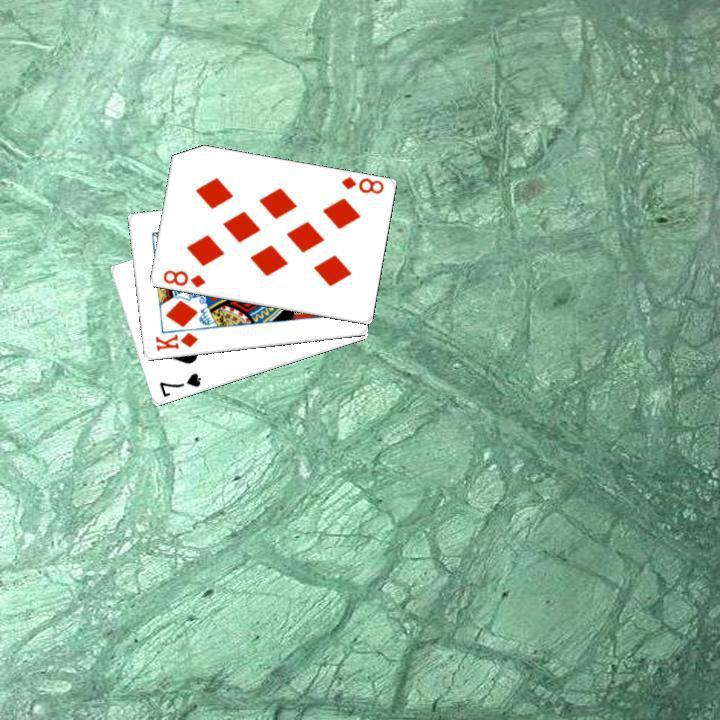7: (155, 369, 203, 400)
8: (158, 266, 207, 290), (336, 173, 385, 196)
K: (150, 328, 200, 353)
